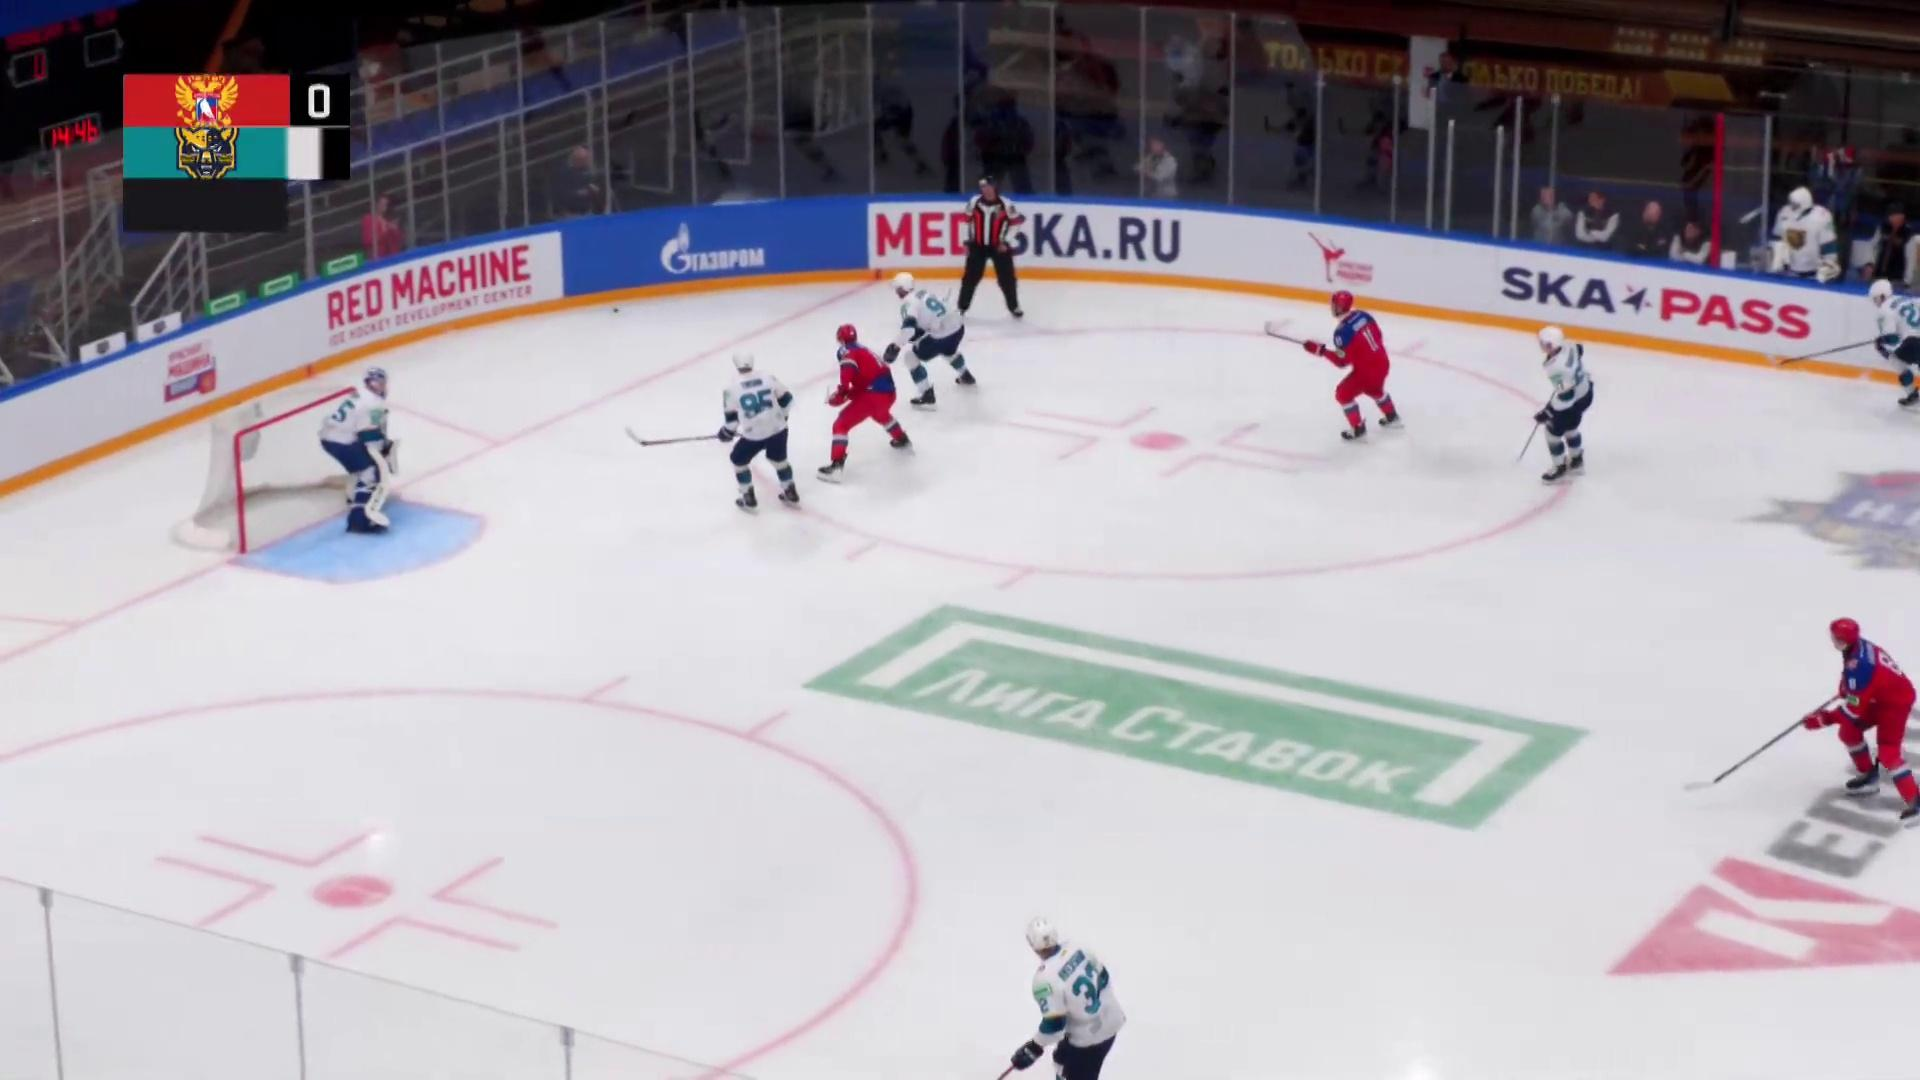ball: (612, 309, 620, 313)
